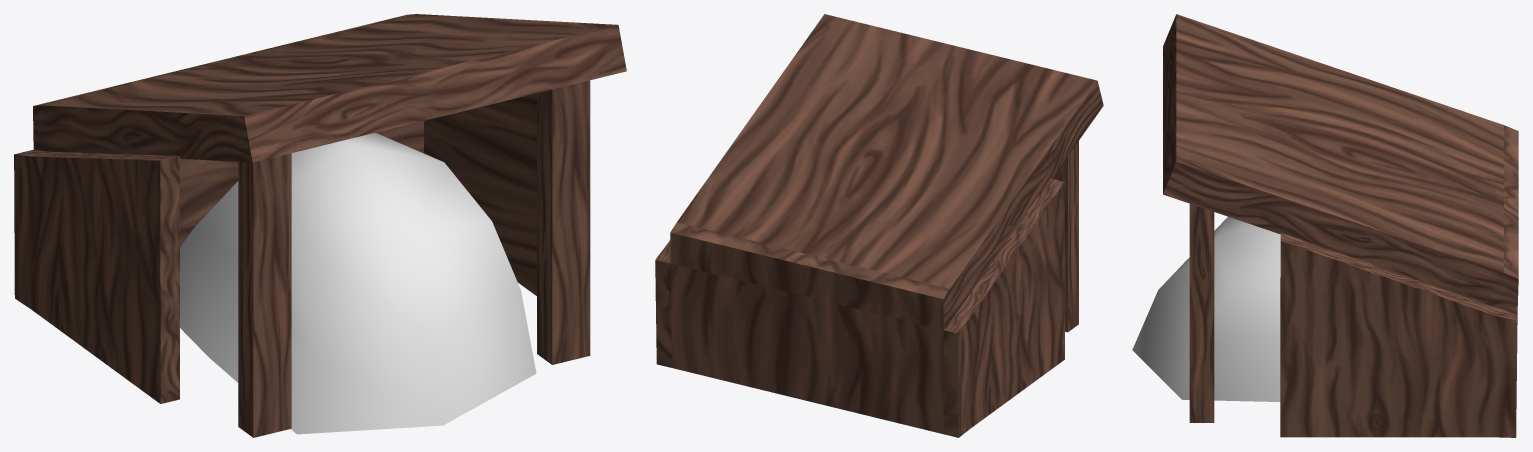
File: Stadl.fbx
The picture shows the model from 3 angles, left to right: view 1: azimuth 30°, elevation 25°; view 2: azimuth 150°, elevation 25°; view 3: azimuth 270°, elevation 25°; orthographic projection. The views are drawn at different scales.
Visible parts, largest first — view 1: Cube, Cube.001; view 2: Cube; view 3: Cube, Cube.001.
Boxes of the visible parts, x1,y1,x2,y2 form: Cube: (14,14,626,437); Cube.001: (180,133,536,434); Cube: (655,14,1103,437); Cube: (1163,14,1518,437); Cube.001: (1132,216,1280,401).
Bounding box in the file's own units: 222 × 173 × 221.
